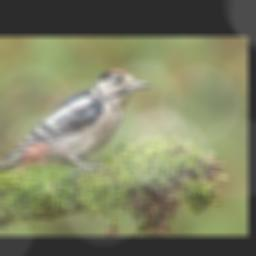Woodpecker: (0, 69, 151, 173)
